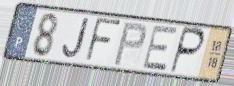8: (32, 11, 60, 59)
E: (141, 25, 179, 73)
F: (83, 16, 123, 65)
J: (60, 17, 91, 61)
P: (168, 25, 207, 76), (112, 22, 148, 68)
